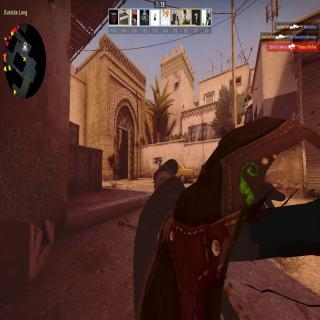CT-Head: (158, 162, 161, 167)
